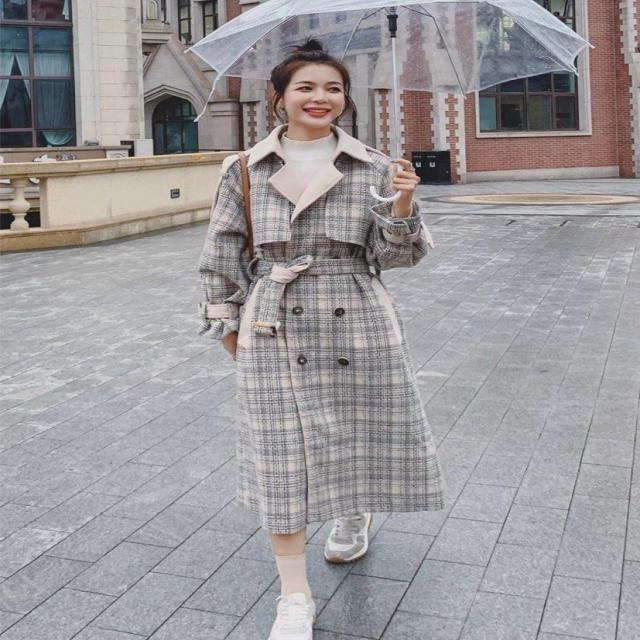coat: (192, 120, 451, 536)
short sleeve shirt: (275, 131, 342, 189)
